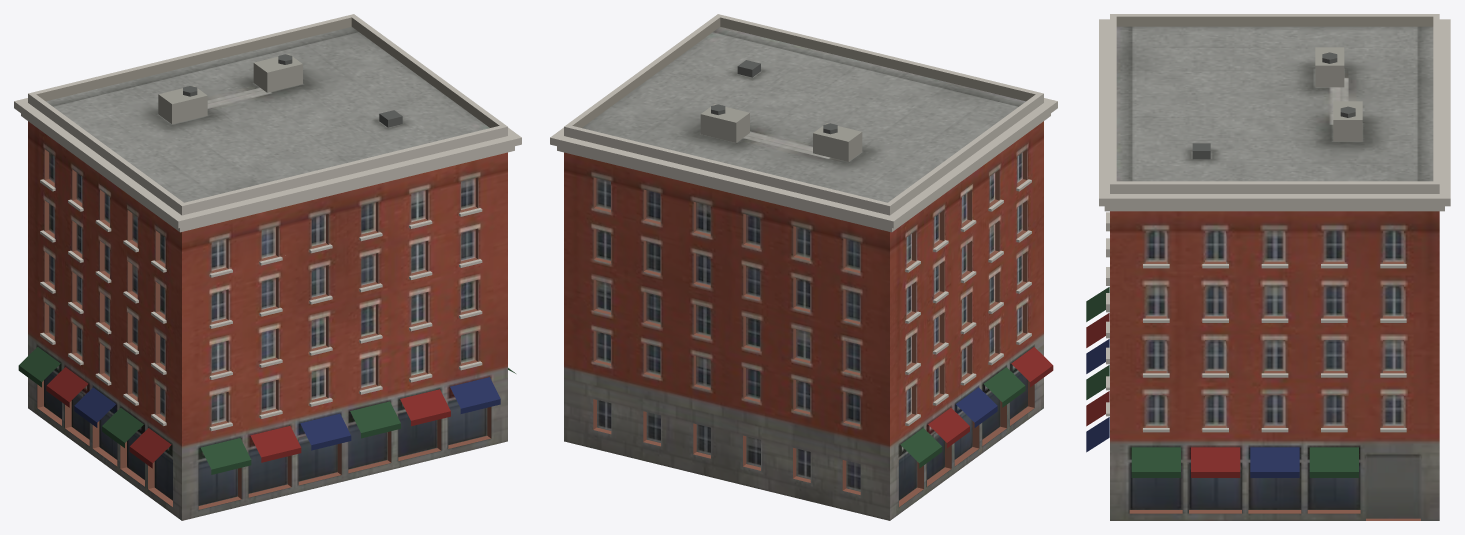
The model's file is dc_brick_corner_a.glb.
3 views of the same model, side by side, from view 1: azimuth 30°, elevation 25°; view 2: azimuth 150°, elevation 25°; view 3: azimuth 270°, elevation 25° (orthographic). The views are drawn at different scales.
Visible parts, largest first — view 1: dc_brick_corner_a; view 2: dc_brick_corner_a; view 3: dc_brick_corner_a.
Boxes of the visible parts, x1,y1,x2,y2 form: dc_brick_corner_a: (14,14,521,520); dc_brick_corner_a: (550,14,1057,520); dc_brick_corner_a: (1086,14,1450,520).
Bounding box in the file's own units: 24.6 × 21.25 × 19.9.
1 material, 1 textured.
